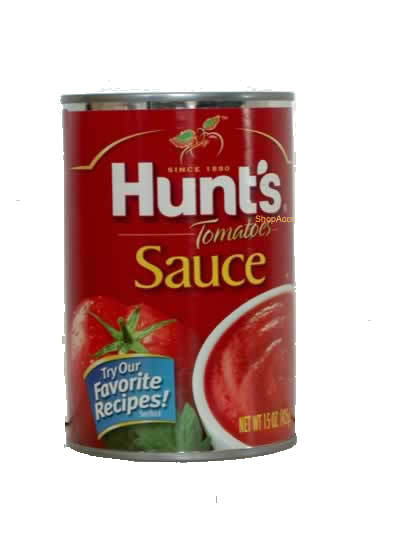grozi_80: (60, 89, 296, 463)
